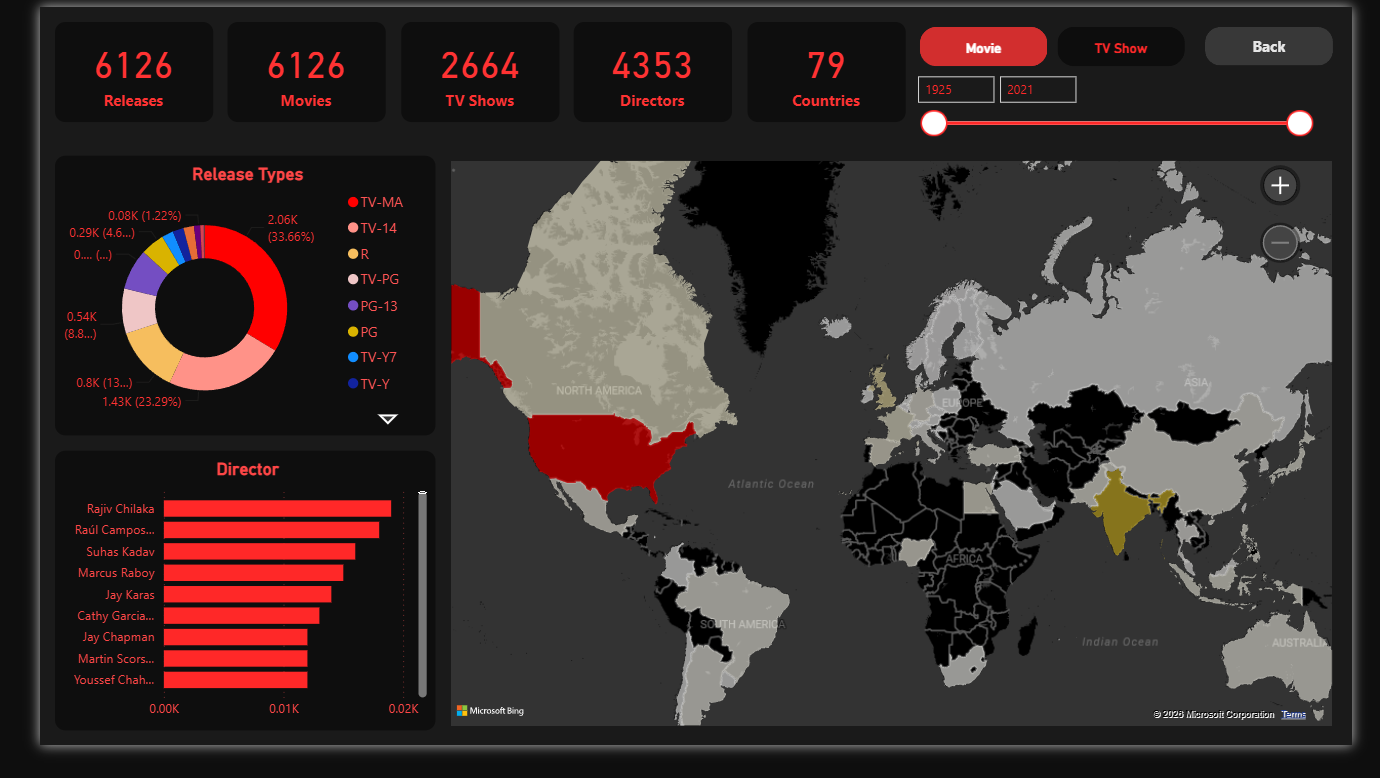

What the dashboard file says about the page in this screenshot:
{"tool":"powerbi","page":{"name":"Page 2","canvas":[1280,720],"ordinal":1},"visuals":[{"type":"barChart","title":"Director","fields":{"Category":["netflix1.director"],"Y":["CountNonNull(netflix1.title)"]},"box":[14.3,432.9,371.4,272.9],"z":0},{"type":"donutChart","title":"Release Types","fields":{"Category":["netflix1.rating"],"Y":["CountNonNull(netflix1.title)"]},"box":[14.3,145.7,371.4,272.9],"z":1000},{"type":"card","fields":{"Values":["Count(netflix1.director)"]},"box":[520.9,14.2,154.7,97.9],"z":2000},{"type":"card","fields":{"Values":["CountNonNull(netflix1.title)"]},"box":[14.2,14.2,154.7,97.9],"z":3000},{"type":"card","fields":{"Values":["Count(netflix1.country)"]},"box":[689.9,14.2,154.7,97.9],"z":4000},{"type":"card","fields":{"Values":["netflix1.Count of type for Movie"]},"box":[183.1,14.2,154.7,97.9],"z":5000},{"type":"card","fields":{"Values":["netflix1.Count of type for TV Show"]},"box":[352,14.2,154.7,97.9],"z":6000},{"type":"filledMap","fields":{"Category":["netflix1.country"]},"box":[396.7,145.2,868.6,560.7],"z":7000},{"type":"actionButton","box":[1136.3,14.5,125,42.7],"z":8000},{"type":"advancedSlicerVisual","fields":{"Values":["netflix1.type"]},"box":[854,14.5,268.5,48.4],"z":9000},{"type":"slicer","fields":{"Values":["netflix1.release_year"]},"box":[844.4,57.3,406.5,98.4],"z":10000}]}

Visuals, with their boxes in screenshot pixels (x1, y1, x2, y2), scaled from the page's 1280x720 canvas onto the 1380x778 screenshot:
"Director" barChart: crop(15, 468, 416, 763)
"Release Types" donutChart: crop(15, 157, 416, 452)
card - Count(netflix1.director): crop(562, 15, 728, 121)
card - CountNonNull(netflix1.title): crop(15, 15, 182, 121)
card - Count(netflix1.country): crop(744, 15, 911, 121)
card - netflix1.Count of type for Movie: crop(197, 15, 364, 121)
card - netflix1.Count of type for TV Show: crop(380, 15, 546, 121)
filledMap - netflix1.country: crop(428, 157, 1364, 763)
actionButton: crop(1225, 16, 1360, 62)
advancedSlicerVisual - netflix1.type: crop(921, 16, 1210, 68)
slicer - netflix1.release_year: crop(910, 62, 1349, 168)
